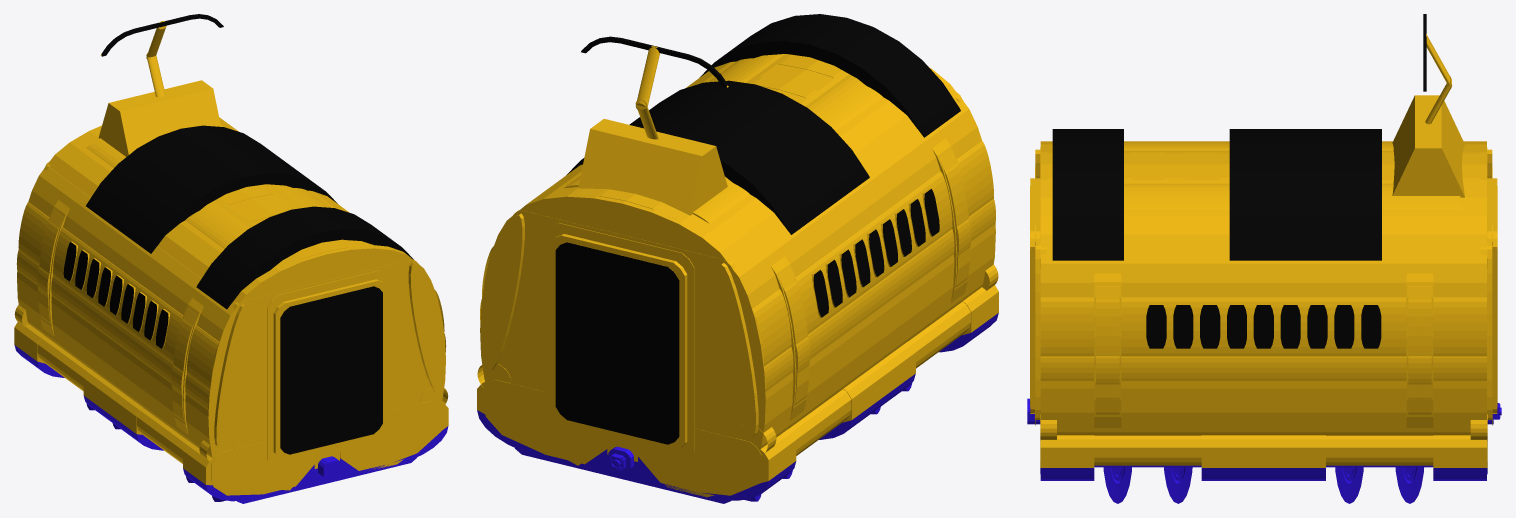
File: JapanWagonY.fbx
The picture shows the model from 3 angles, left to right: view 1: azimuth 30°, elevation 25°; view 2: azimuth 150°, elevation 25°; view 3: azimuth 270°, elevation 25°; orthographic projection. The views are drawn at different scales.
Parts seen in each view (by area): view 1: wagon, Tube, Tube_1; view 2: wagon, Tube, Tube_1; view 3: wagon, Tube, Tube_1.
Boxes of the visible parts, box(x1,y1,x2,y2) form: wagon: box(14, 14, 448, 503); Tube: box(86, 125, 337, 253); Tube_1: box(196, 206, 413, 309); wagon: box(477, 36, 998, 503); Tube: box(567, 80, 869, 234); Tube_1: box(699, 14, 960, 137); wagon: box(1027, 14, 1501, 503); Tube: box(1229, 129, 1381, 260); Tube_1: box(1052, 129, 1123, 260).
Bounding box in the file's own units: 216 × 309 × 311.
